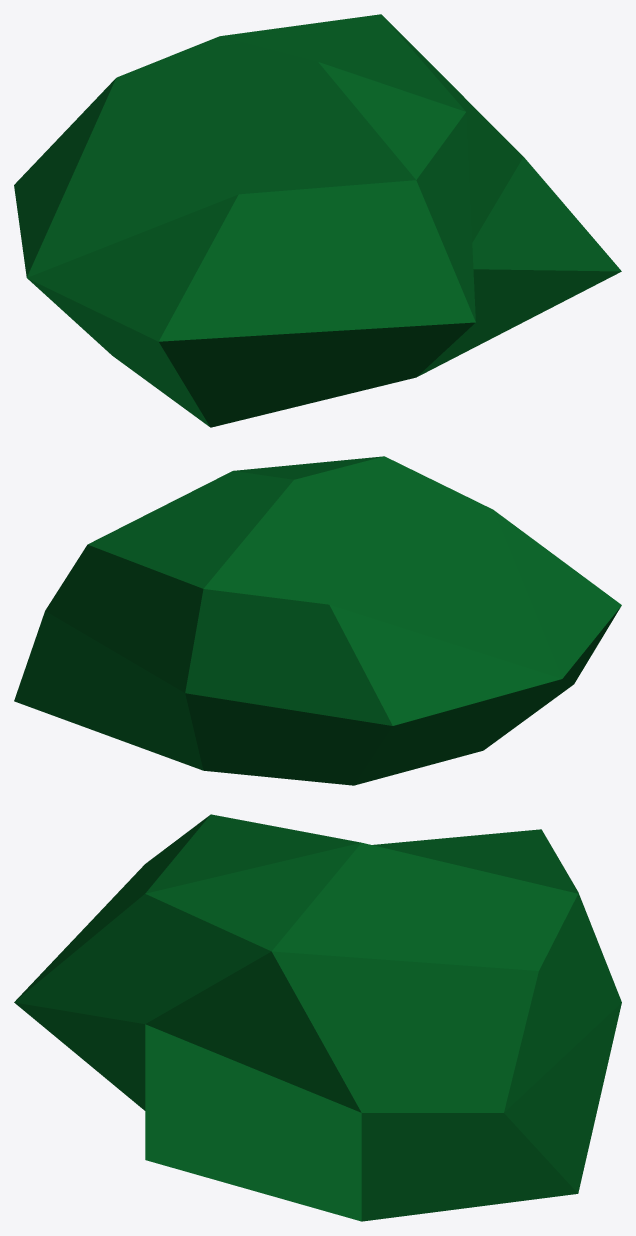
Rendered from thicket.FBX.
3 views of the same model, one above another, from view 1: azimuth 30°, elevation 25°; view 2: azimuth 150°, elevation 25°; view 3: azimuth 270°, elevation 25° (orthographic). The views are drawn at different scales.
Visible parts, largest first — view 1: thicket; view 2: thicket; view 3: thicket.
Part boxes in pixels (x1,y1,x2,y2): thicket: (14, 14, 621, 427); thicket: (14, 456, 621, 785); thicket: (14, 814, 621, 1221).
Bounding box in the file's own units: 23.18 × 10.87 × 22.3.
